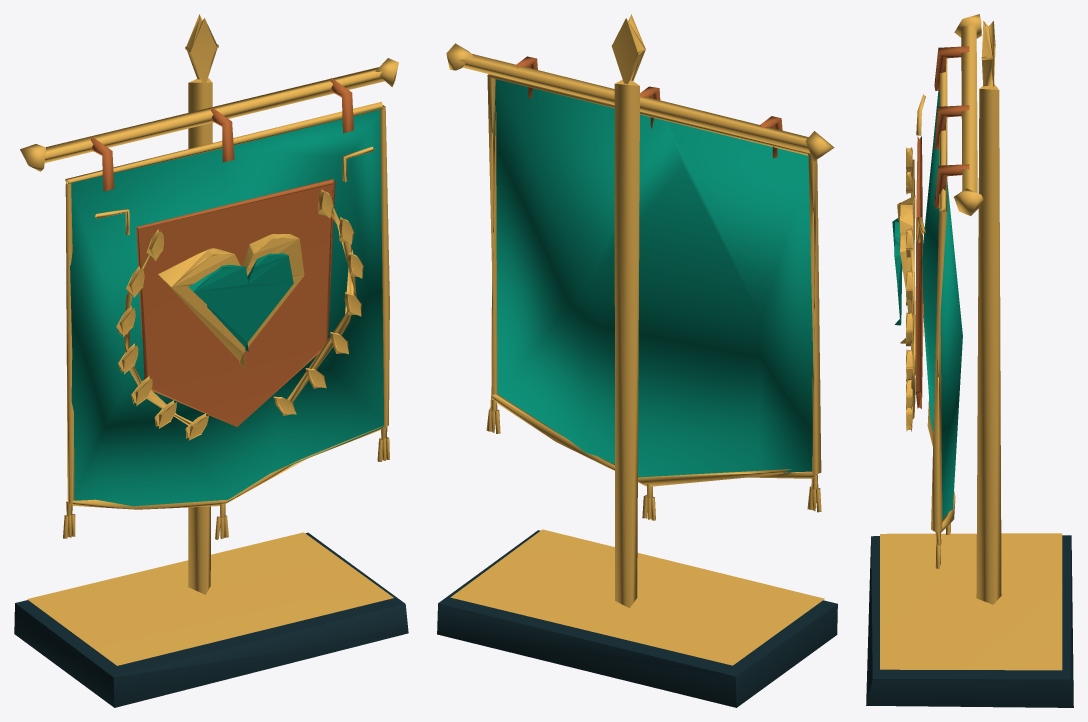
File: chess.banner.house-pink.lod1.glb
3 renders of one model, left to right at view 1: azimuth 30°, elevation 25°; view 2: azimuth 150°, elevation 25°; view 3: azimuth 270°, elevation 25°, orthographic. The views are drawn at different scales.
Parts seen in each view (by area): view 1: banner_crest_inset; view 2: banner_crest_inset; view 3: banner_crest_inset.
Part boxes in pixels (bbox=[...]): banner_crest_inset: bbox=[14, 14, 408, 707]; banner_crest_inset: bbox=[437, 14, 837, 707]; banner_crest_inset: bbox=[866, 14, 1073, 707].
Bounding box in the file's own units: 0.4729 × 0.7457 × 0.2268.
